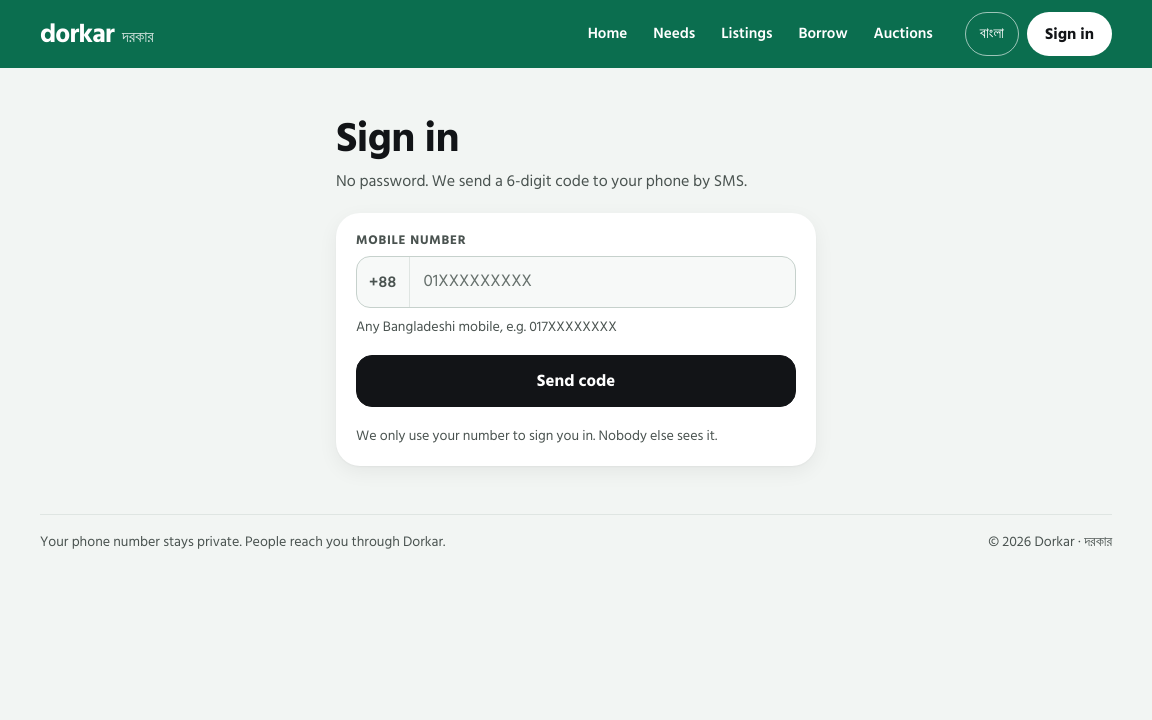
Test: sign in › shows the server’s rate limit with its wait time
The image size is (1152, 720).
Type "01712345678" into the field labelled "Mobile number".
click(602, 282); type("01712345678")  # box [410, 257, 795, 307]
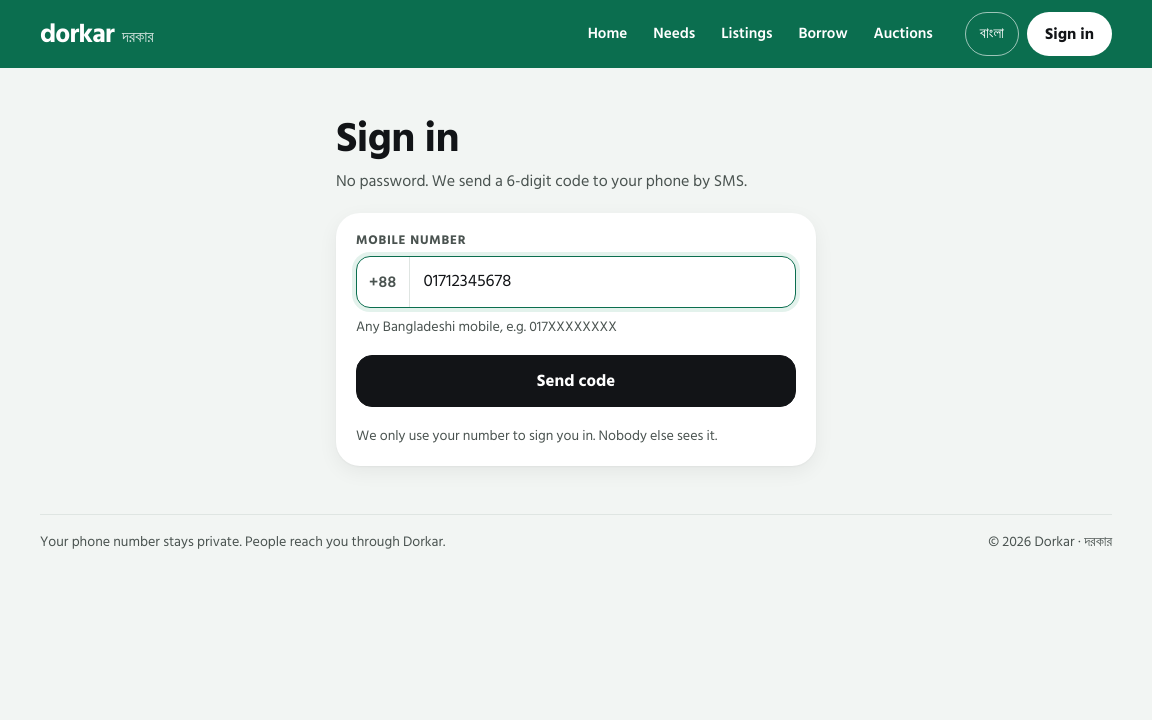
Click the button "Send code".
click(576, 381)  # box [356, 355, 796, 407]
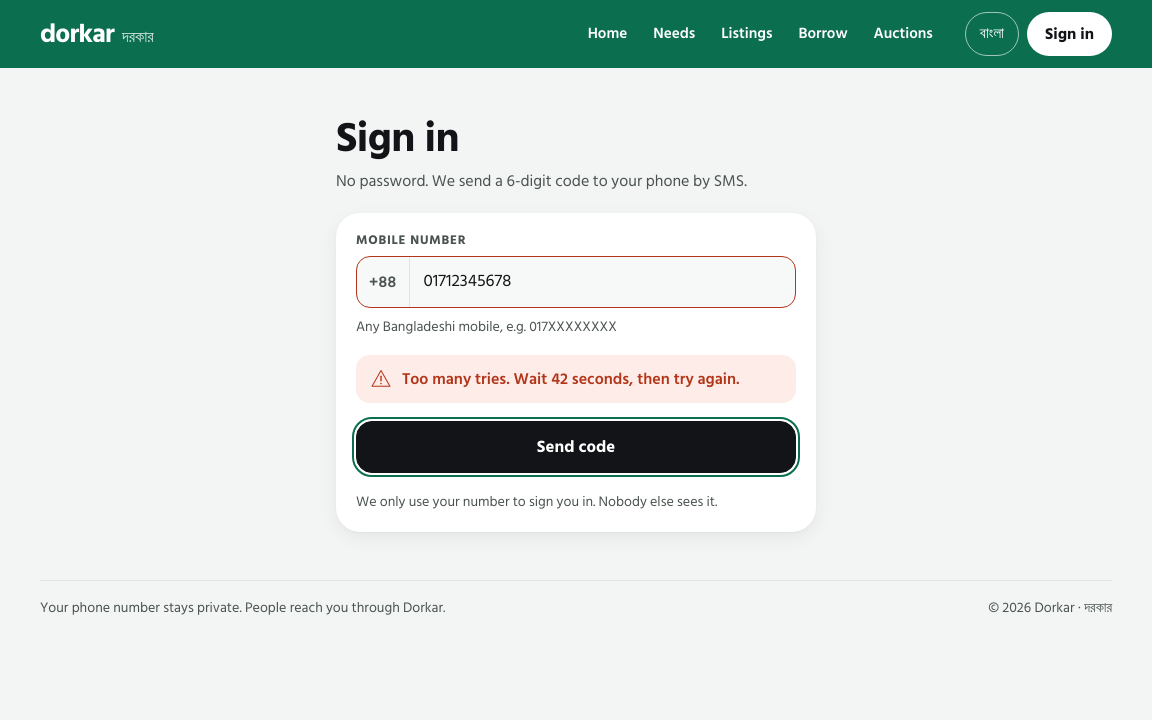
Expected: the message shows "Wait 42 seconds", [402, 366, 740, 392]
